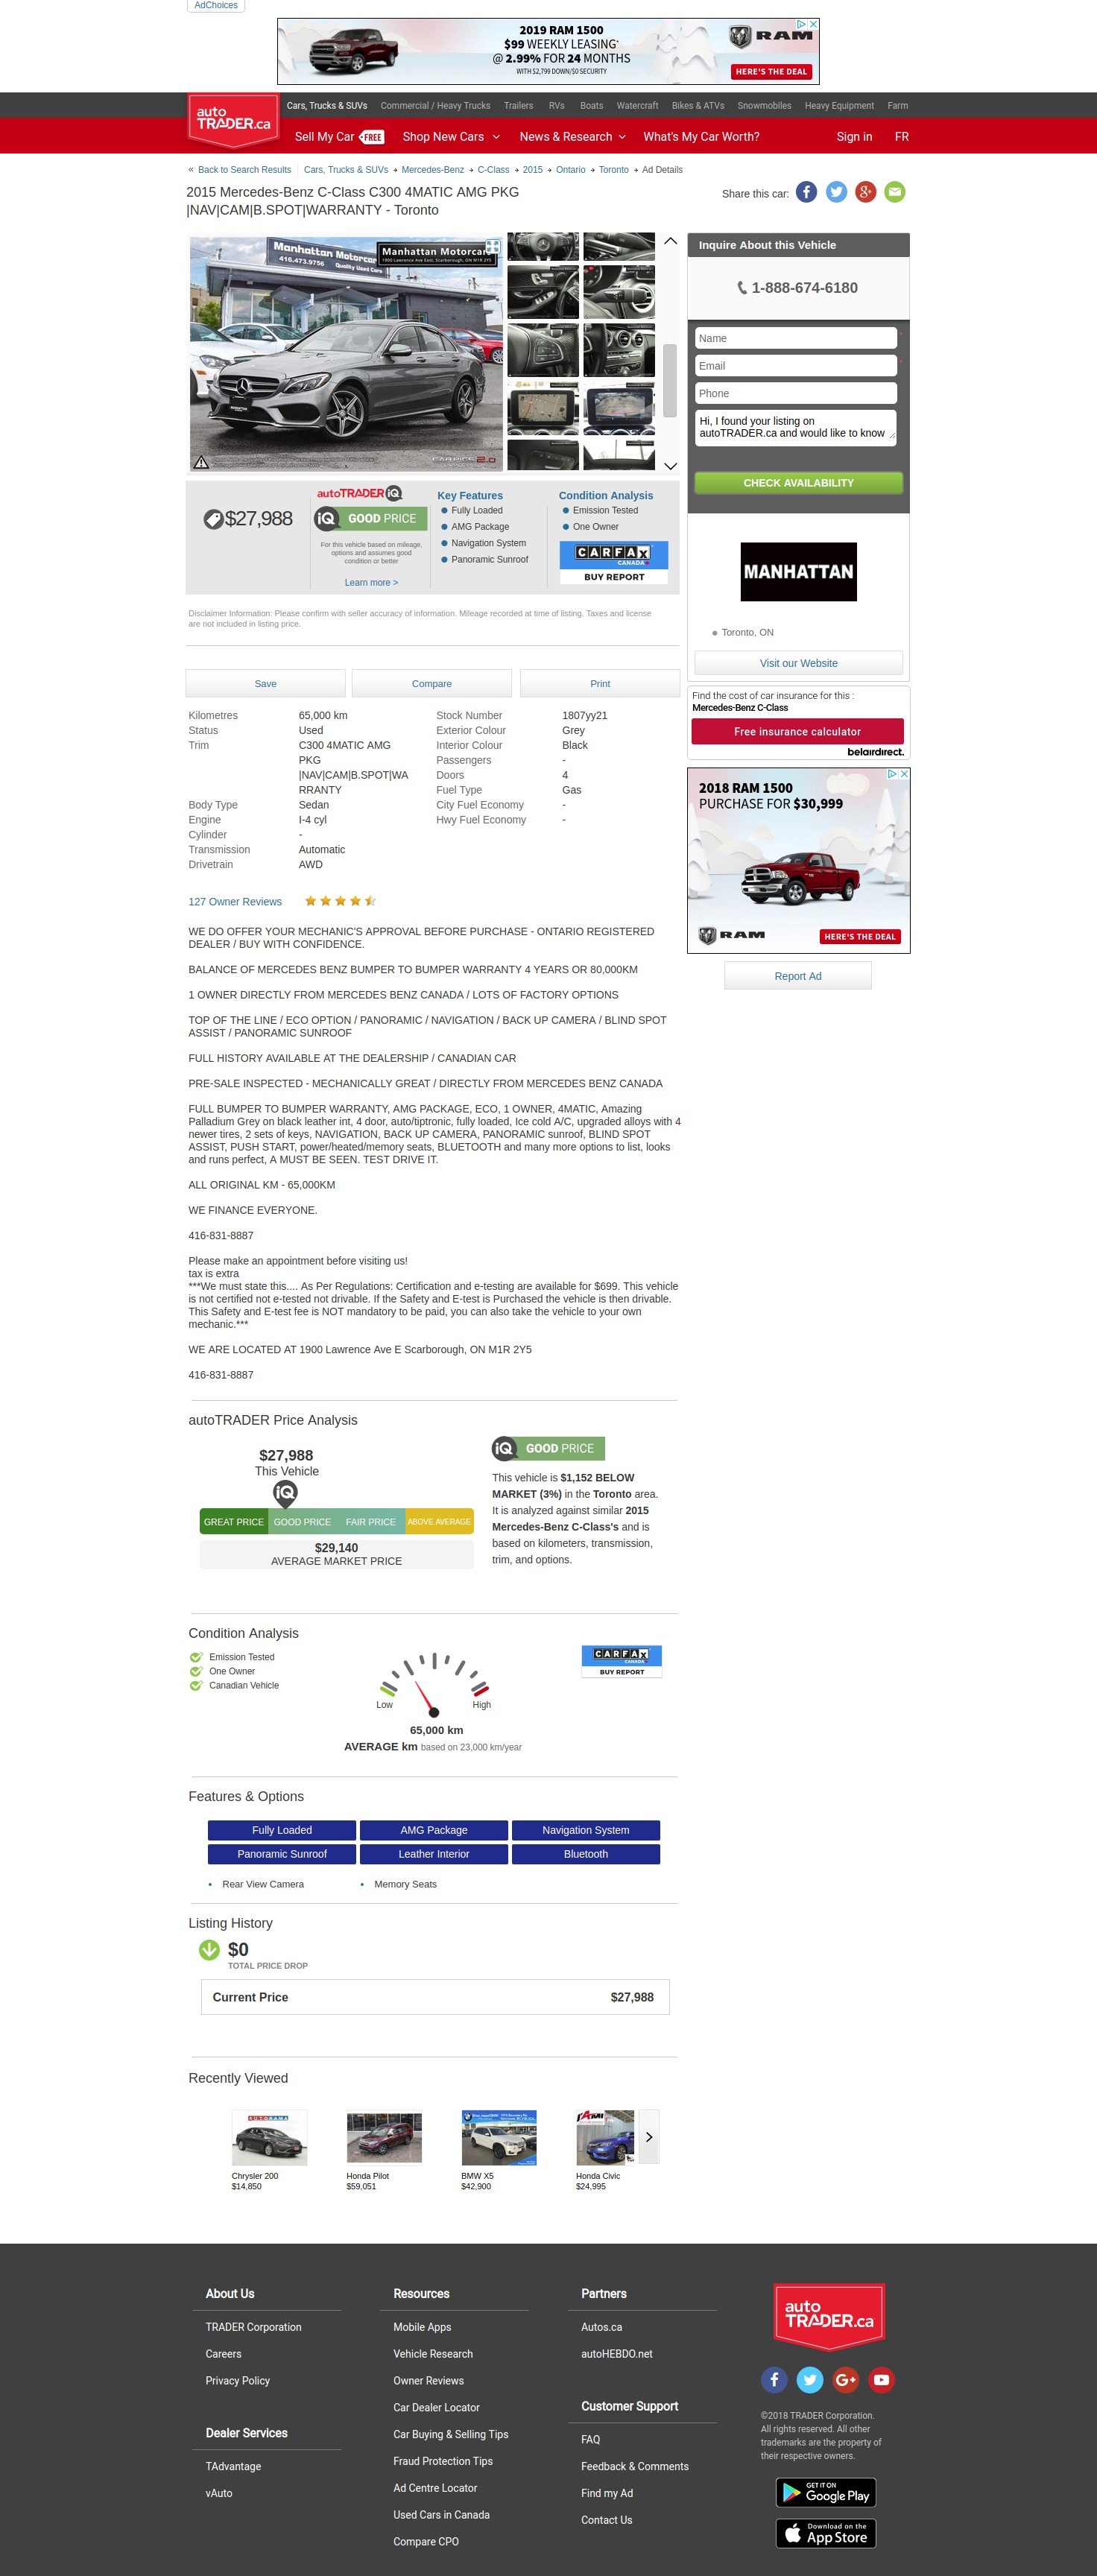car: (663, 462, 680, 473)
